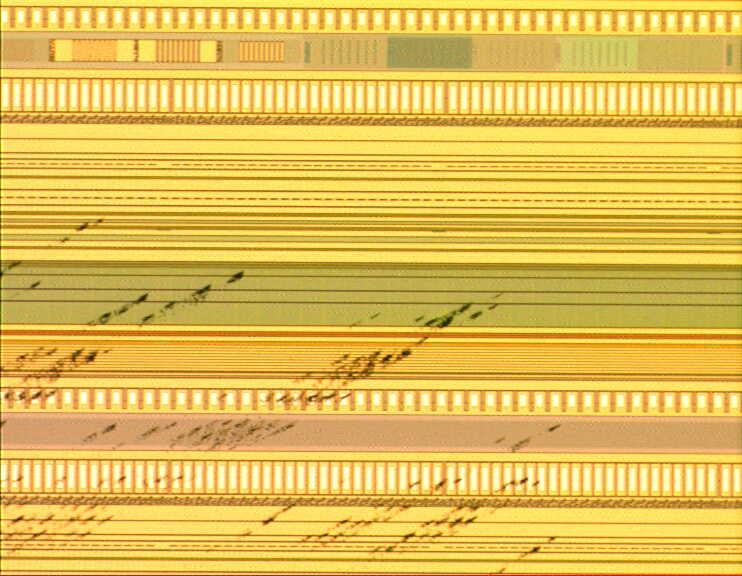SCRATCH: (1, 203, 571, 576)
